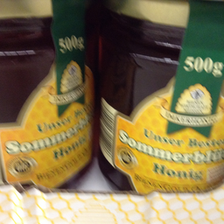honey: (102, 1, 223, 191), (1, 1, 97, 190)
